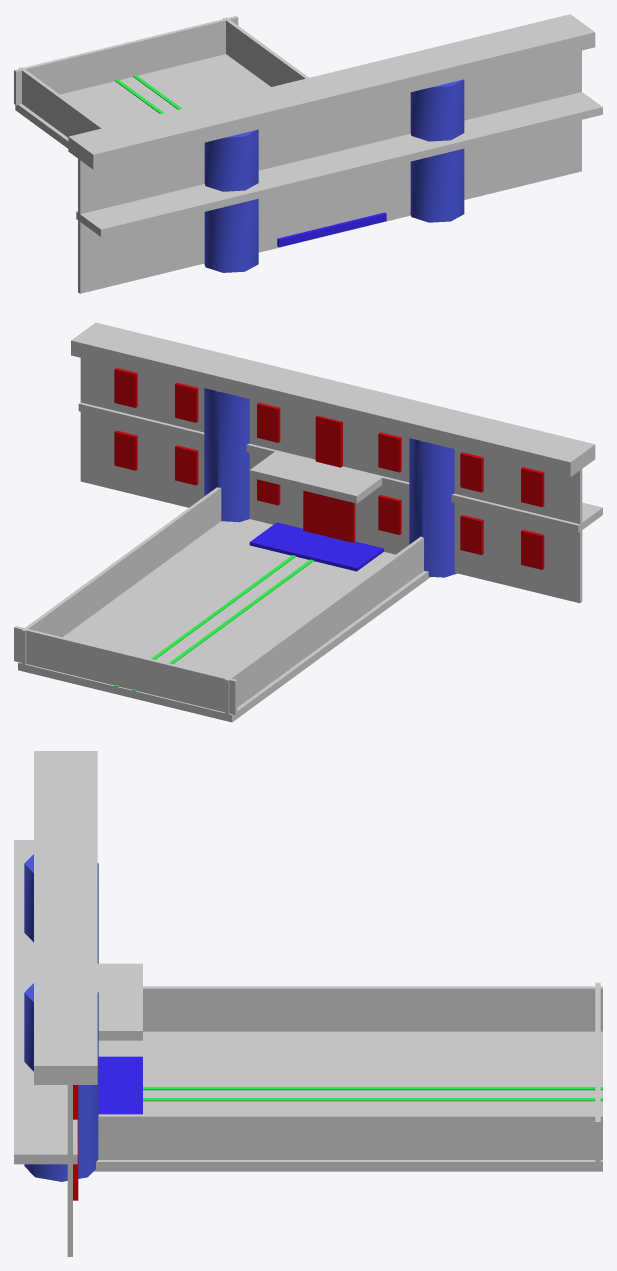
Rendered from Official_Scene_1_FrontDoor.gltf.
3 views of the same model, one above another, from view 1: azimuth 30°, elevation 25°; view 2: azimuth 150°, elevation 25°; view 3: azimuth 270°, elevation 25° (orthographic). The views are drawn at different scales.
Visible parts, largest first — view 1: Ground2; view 2: Ground2; view 3: Ground2.
Boxes of the visible parts, box(x1,y1,x2,y2) form: Ground2: box(14, 14, 602, 293); Ground2: box(14, 322, 602, 722); Ground2: box(14, 751, 602, 1256).
Size of the model in its own units: 140 by 40.63 by 111.
